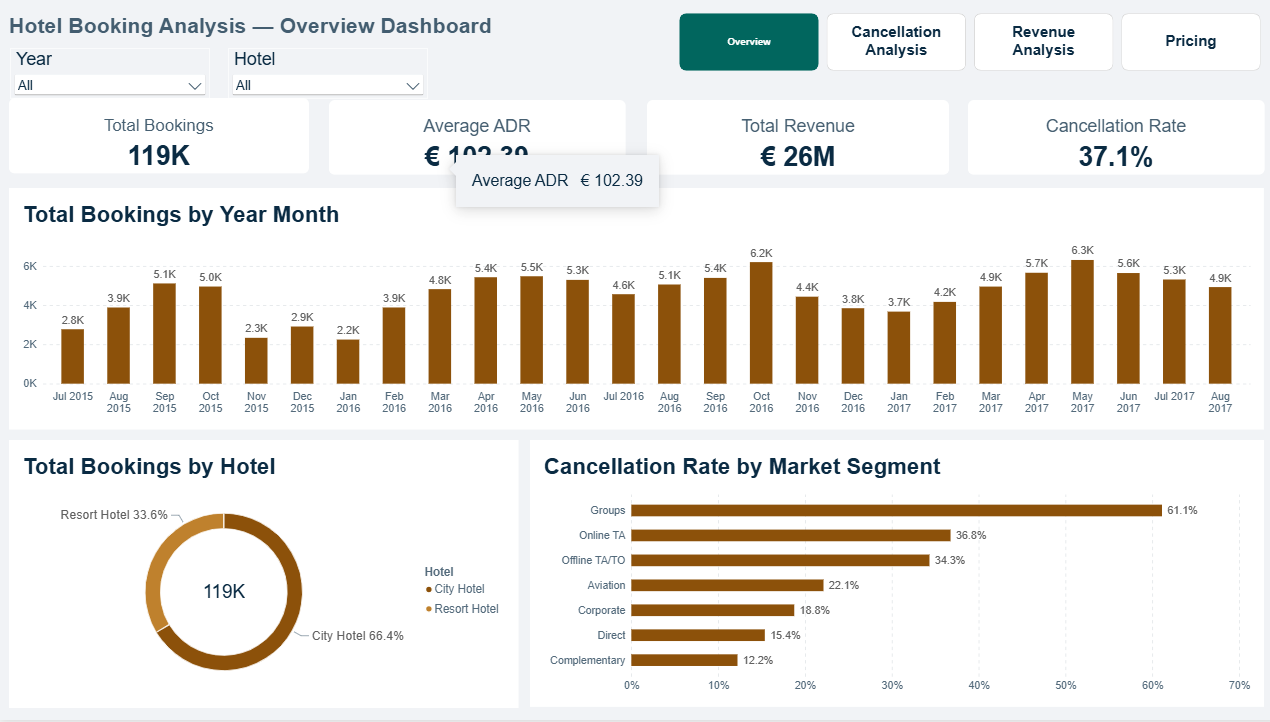

Layout of this report page (visuals, bound fields, positions):
{"tool":"powerbi","page":{"name":"Overview","canvas":[1920,1080],"ordinal":0},"visuals":[{"type":"cardVisual","fields":{"Data":["_Measures.Total Revenue"]},"box":[972,149.4,453.4,111.6],"z":0},{"type":"cardVisual","fields":{"Data":["_Measures.Cancellation Rate"]},"box":[1452.9,149.4,444.8,111.6],"z":1000},{"type":"cardVisual","fields":{"Data":["_Measures.Average ADR"]},"box":[494.6,149.4,444.8,111.6],"z":2000},{"type":"columnChart","fields":{"Category":["DateTable.Year Month"],"Y":["_Measures.Total Bookings"]},"box":[15.5,281.6,1881.8,361.5],"z":3000},{"type":"donutChart","fields":{"Category":["vw_bookings_detail.hotel"],"Y":["_Measures.Total Bookings"]},"box":[15.5,659.5,764.2,401.9],"z":4000},{"type":"barChart","title":"Cancellation Rate by Market Segment","fields":{"Category":["vw_bookings_detail.market_segment"],"Y":["_Measures.Cancellation Rate"]},"box":[796.9,659.5,1100.8,400.1],"z":5000},{"type":"textbox","box":[15.5,20.7,956.6,63.8],"z":6000},{"type":"slicer","fields":{"Values":["DateTable.Year"]},"box":[16.5,72,299.9,75.8],"z":7000},{"type":"slicer","fields":{"Values":["vw_bookings_detail.hotel"]},"box":[343.7,72,299.9,75.8],"z":8000},{"type":"pageNavigator","box":[1018.6,18.5,878.7,90.5],"z":9000},{"type":"cardVisual","fields":{"Data":["_Measures.Total Bookings"]},"box":[15.5,147.7,449.9,113.3],"z":10000}]}

Visuals, with their boxes in screenshot pixels (x1, y1, x2, y2), scaled from the page's 1920x1080 canvas onto the 1270x722 screenshot:
cardVisual - _Measures.Total Revenue: [x1=643, y1=100, x2=943, y2=174]
cardVisual - _Measures.Cancellation Rate: [x1=961, y1=100, x2=1255, y2=174]
cardVisual - _Measures.Average ADR: [x1=327, y1=100, x2=621, y2=174]
columnChart - DateTable.Year Month x _Measures.Total Bookings: [x1=10, y1=188, x2=1255, y2=430]
donutChart - vw_bookings_detail.hotel x _Measures.Total Bookings: [x1=10, y1=441, x2=516, y2=710]
"Cancellation Rate by Market Segment" barChart: [x1=527, y1=441, x2=1255, y2=708]
textbox: [x1=10, y1=14, x2=643, y2=56]
slicer - DateTable.Year: [x1=11, y1=48, x2=209, y2=99]
slicer - vw_bookings_detail.hotel: [x1=227, y1=48, x2=426, y2=99]
pageNavigator: [x1=674, y1=12, x2=1255, y2=73]
cardVisual - _Measures.Total Bookings: [x1=10, y1=99, x2=308, y2=174]
